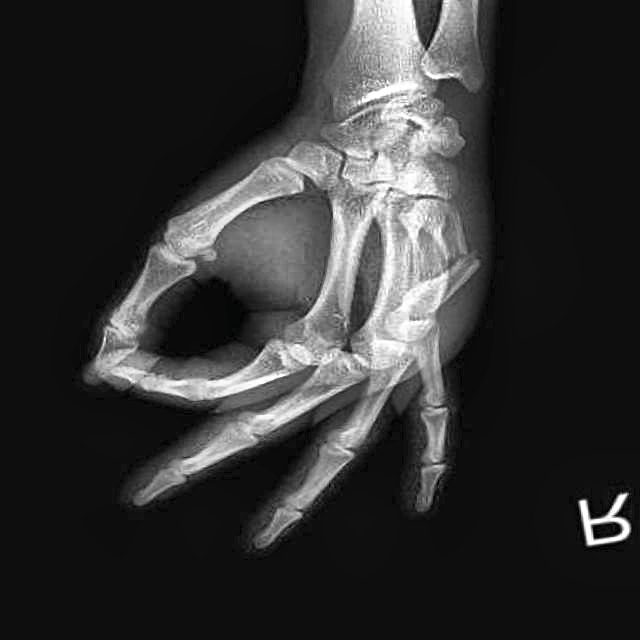Oblique: (392, 213, 491, 312)
